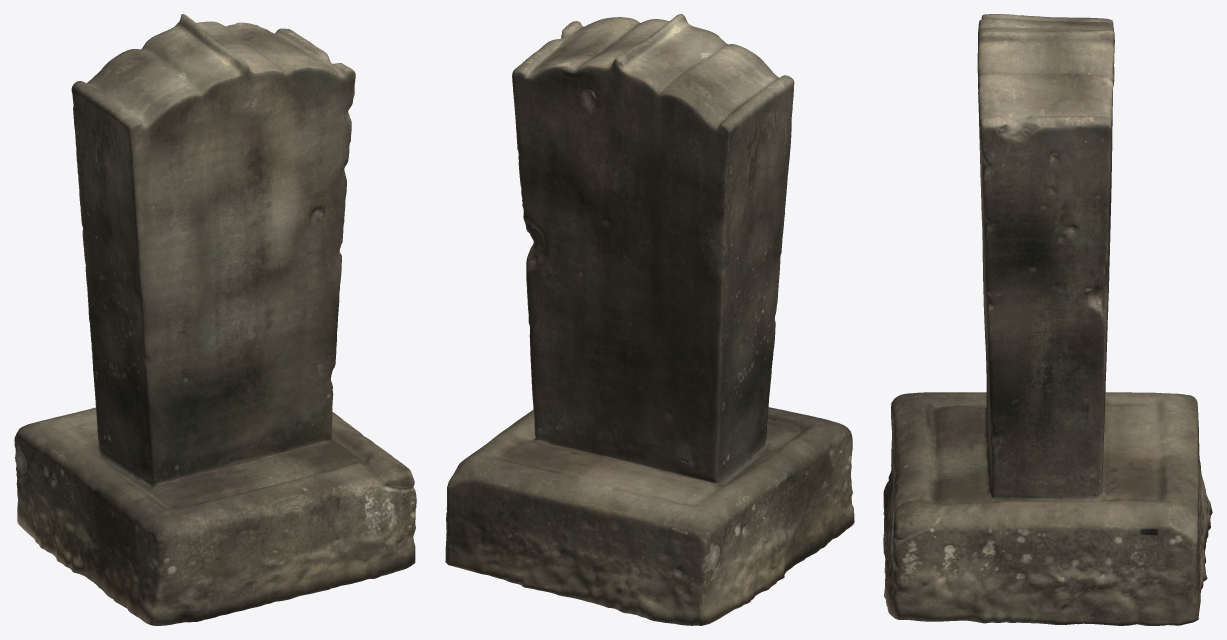
Rendered from MysonMuseum_biadatheki12-13-03msd318.glb.
3 views of the same model, side by side, from view 1: azimuth 30°, elevation 25°; view 2: azimuth 150°, elevation 25°; view 3: azimuth 270°, elevation 25° (orthographic). The views are drawn at different scales.
Parts seen in each view (by area): view 1: remesh; view 2: remesh; view 3: remesh.
Part boxes in pixels (x1,y1,x2,y2): remesh: [14, 14, 416, 625]; remesh: [445, 14, 854, 625]; remesh: [883, 14, 1212, 625].
Bounding box in the file's own units: 1.06 × 1.85 × 1.05.
1 material, 1 textured.
